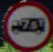Heavy Vehicles: (6, 6, 48, 42)
